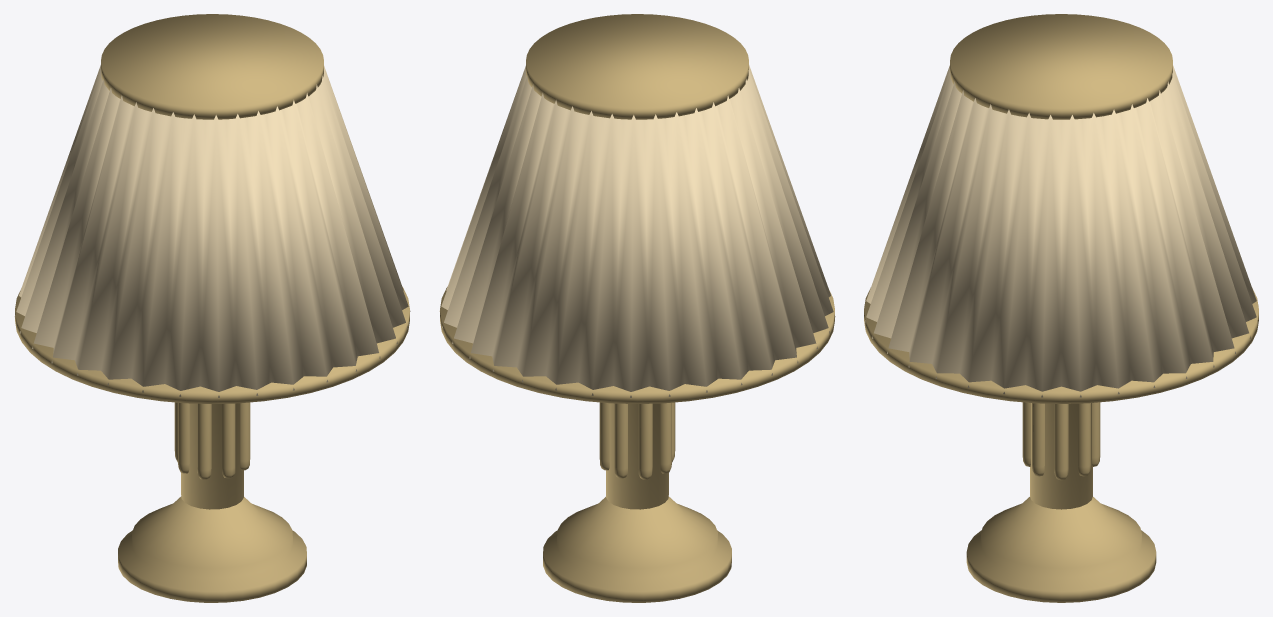
Rendered from lamp_table.glb.
The picture shows the model from 3 angles, left to right: view 1: azimuth 30°, elevation 25°; view 2: azimuth 150°, elevation 25°; view 3: azimuth 270°, elevation 25°; orthographic projection.
Parts seen in each view (by area): view 1: lamp_table; view 2: lamp_table; view 3: lamp_table.
Boxes of the visible parts, box(x1,y1,x2,y2) form: lamp_table: box(14, 14, 410, 602); lamp_table: box(439, 14, 835, 602); lamp_table: box(864, 14, 1258, 602).
Bounding box in the file's own units: 0.3752 × 0.526 × 0.3752.
